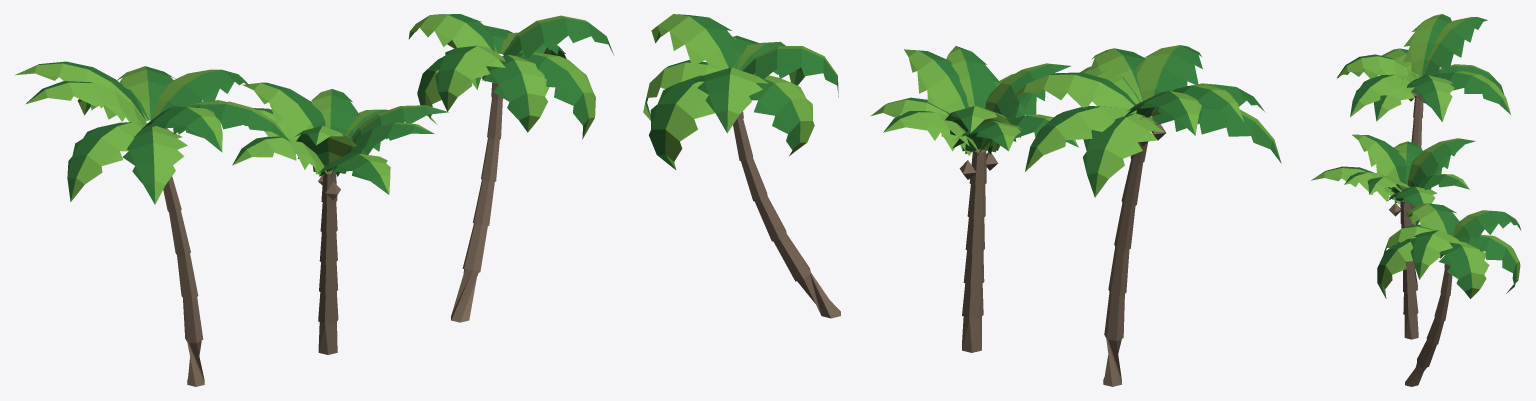
Rendered from palms.glb.
The picture shows the model from 3 angles, left to right: view 1: azimuth 30°, elevation 25°; view 2: azimuth 150°, elevation 25°; view 3: azimuth 270°, elevation 25°; orthographic projection. The views are drawn at different scales.
Parts seen in each view (by area): view 1: palm_a_fronds, palm_c_fronds, palm_b_fronds, palm_c_trunk, palm_b_trunk, palm_a_trunk; view 2: palm_a_fronds, palm_c_fronds, palm_b_fronds, palm_a_trunk, palm_b_trunk, palm_c_trunk; view 3: palm_a_fronds, palm_c_fronds, palm_b_fronds, palm_c_trunk, palm_b_trunk, palm_a_trunk.
Part boxes in pixels (<box>): palm_a_fronds: <box>15,61,290,204</box>; palm_c_fronds: <box>408,14,613,139</box>; palm_b_fronds: <box>232,82,448,194</box>; palm_c_trunk: <box>451,71,503,322</box>; palm_b_trunk: <box>318,170,340,354</box>; palm_a_trunk: <box>163,128,204,386</box>; palm_a_fronds: <box>1011,45,1281,197</box>; palm_c_fronds: <box>643,14,838,169</box>; palm_b_fronds: <box>870,46,1078,155</box>; palm_a_trunk: <box>1103,116,1165,386</box>; palm_b_trunk: <box>959,149,998,352</box>; palm_c_trunk: <box>733,111,840,318</box>; palm_a_fronds: <box>1337,14,1510,122</box>; palm_c_fronds: <box>1377,203,1521,298</box>; palm_b_fronds: <box>1311,134,1475,206</box>; palm_c_trunk: <box>1405,254,1452,386</box>; palm_b_trunk: <box>1389,200,1418,339</box>; palm_a_trunk: <box>1408,93,1424,290</box>.
Bounding box in the file's own units: 17.31 × 9.18 × 7.51.
